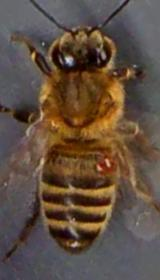varroa_mite: (81, 148, 126, 180)
